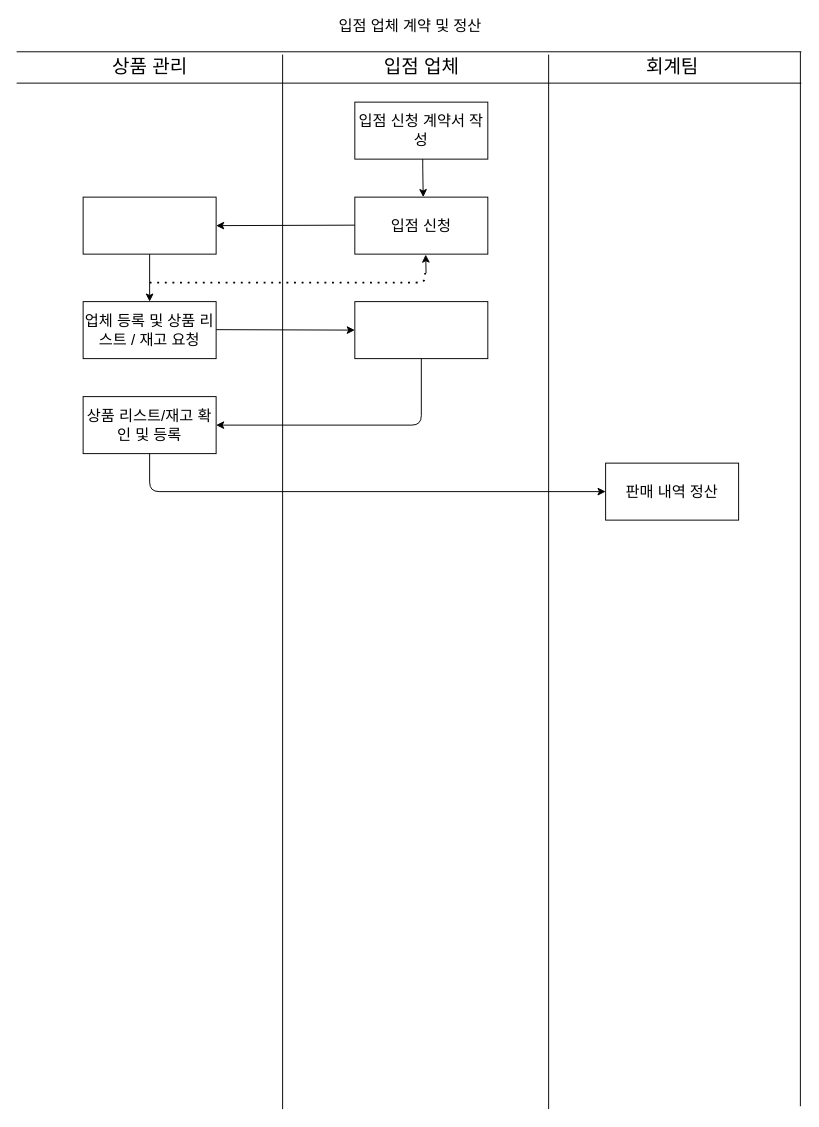
Some shapes in this 819 by 1127 pixel diagram are drawn without their labels. Each missing label, with the centre of its shape:
"계약서 확인" belongs at point 149,225.
"상품 리스트 및 재고 출고" belongs at point 421,330.
